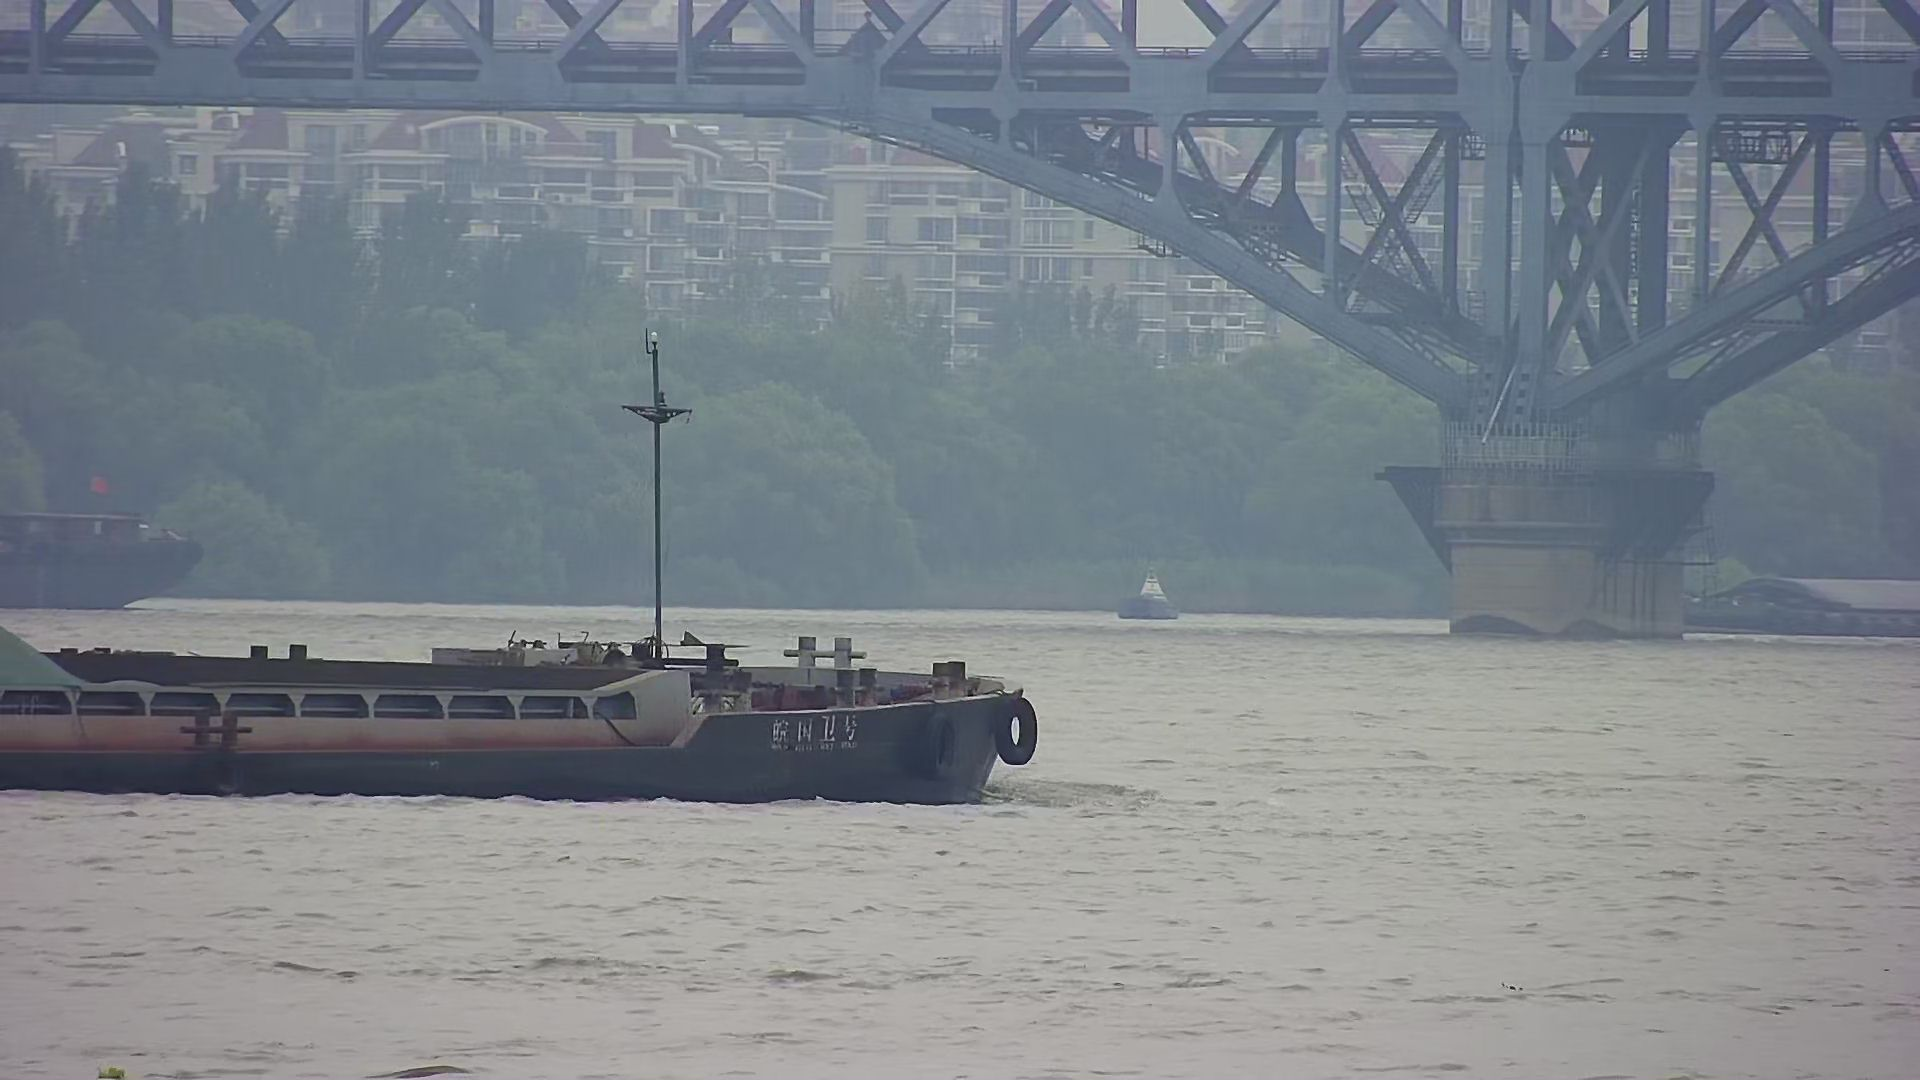boat: (1110, 553, 1193, 634)
bridge: (1, 1, 1909, 651)
ship: (1, 328, 1054, 811)
